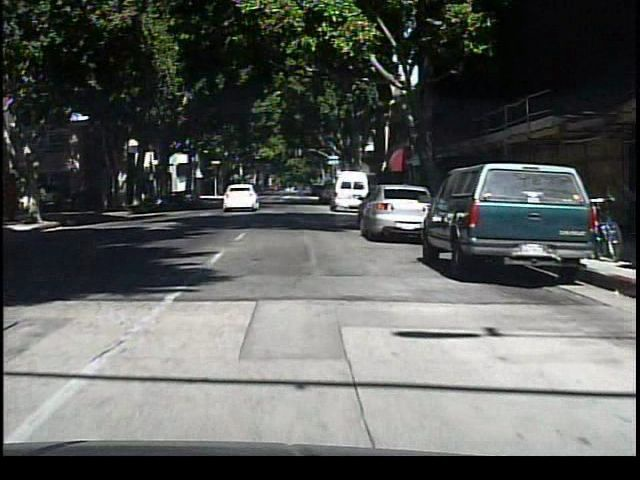person: (35, 181, 53, 223), (293, 177, 310, 206)
